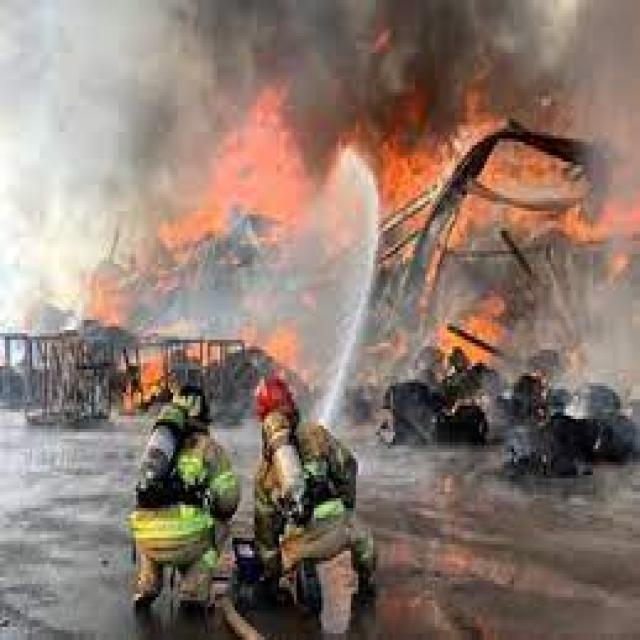Fire: (151, 96, 315, 259), (121, 303, 312, 403), (426, 288, 513, 377), (560, 187, 640, 257), (550, 344, 592, 384), (526, 364, 556, 386), (610, 254, 628, 274), (610, 250, 630, 266)
Smoke: (75, 0, 592, 152), (91, 40, 218, 226)
